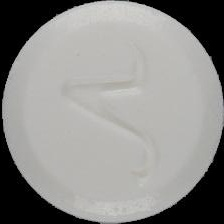55695-024: (0, 0, 224, 224)
